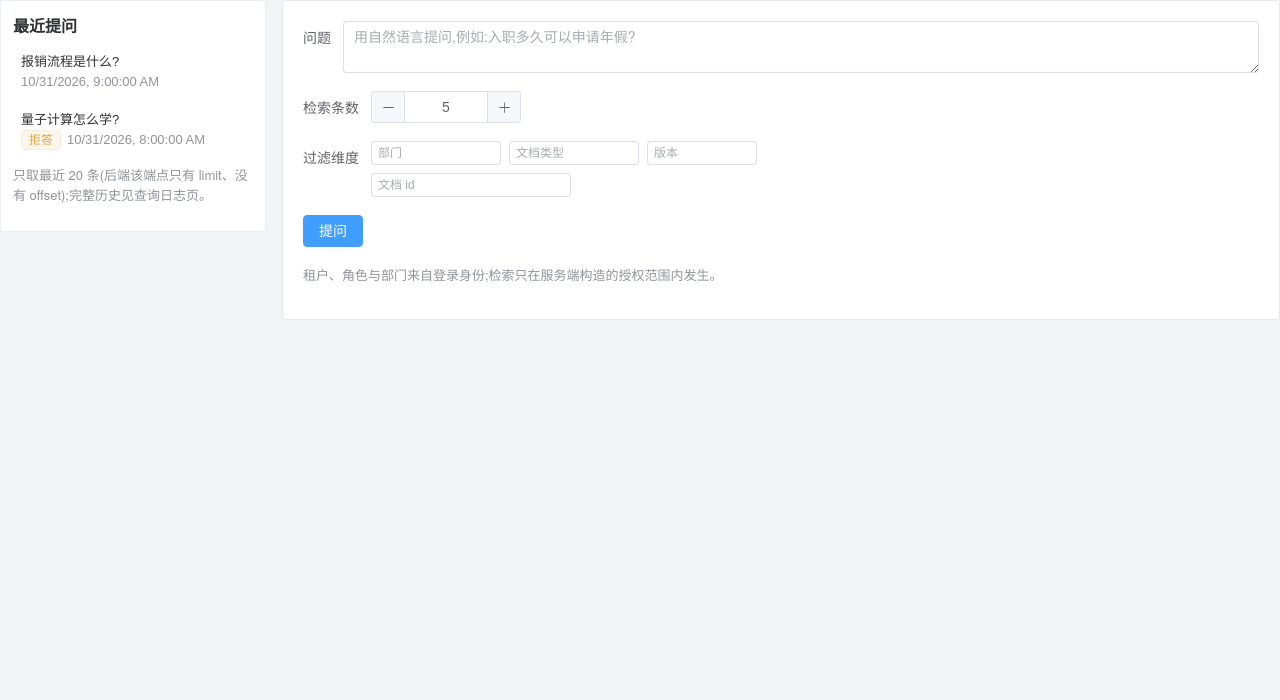
Test: 组件行为 › 问答页 › 侧栏列出最近的提问,点开可查看该次问答的完整结果
Click the button with test id "recent-question-qry-old".
click(133, 72)  # box [13,45,253,99]
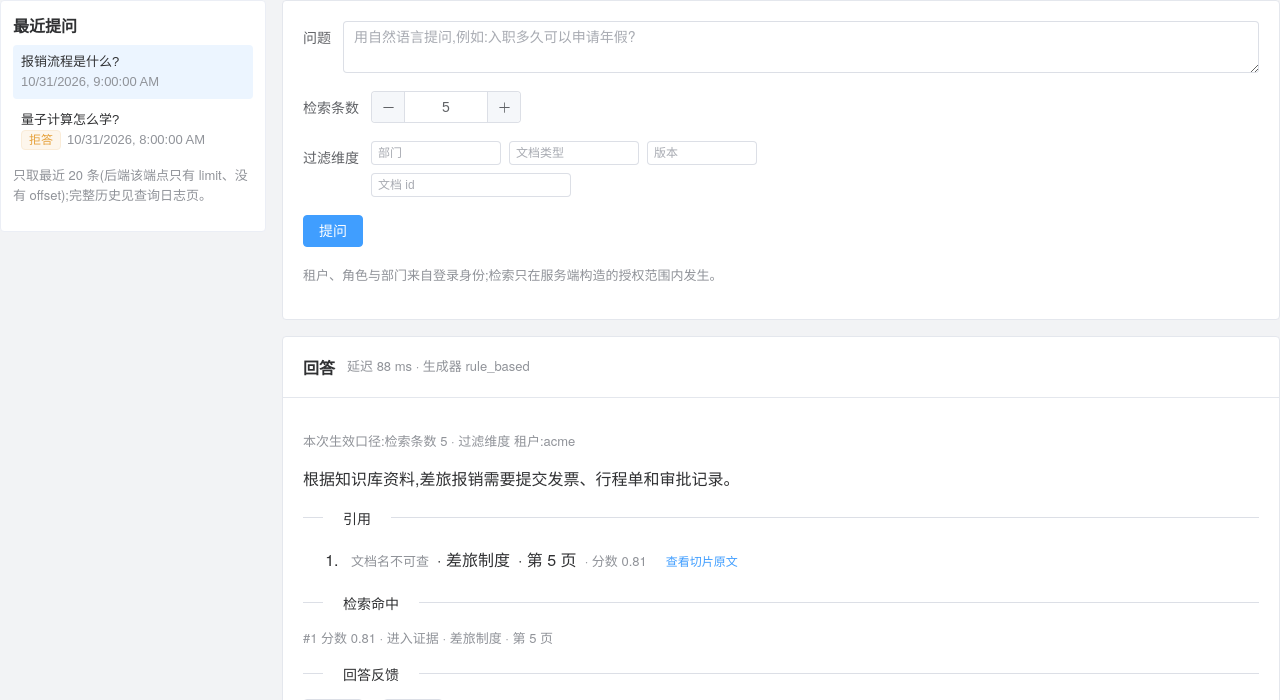
Expected: the element with test id "chat-answer" shows "差旅报销需要提交发票", [303,467,740,490]
Expected: the element with test id "chat-hits" shows "差旅制度", [442,628,502,647]
